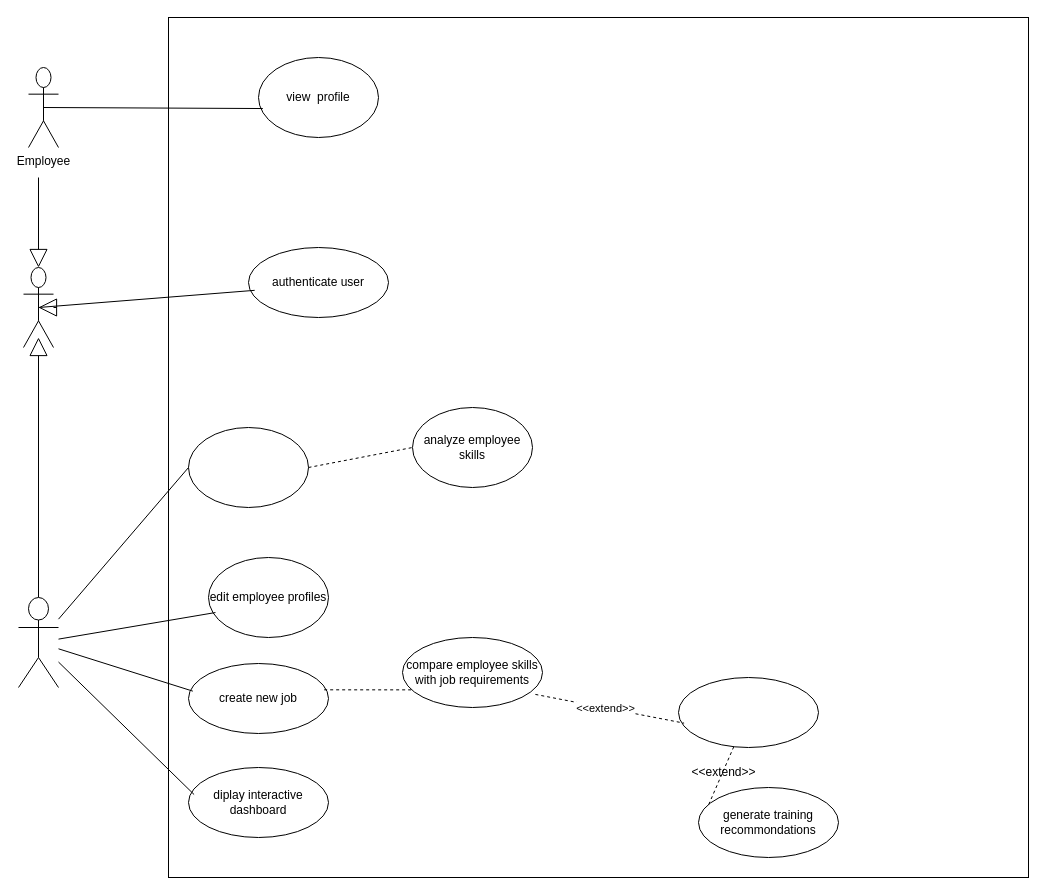
Image size: 1046x895. Some labels were removed from this diagram. The centre of each missing label's shape, as x and y in pixels:
"create employee profiles" belongs at (248,467).
"HR" belongs at (38,642).
"identifying missing skills" belongs at (748,712).
"user" belongs at (38,307).
